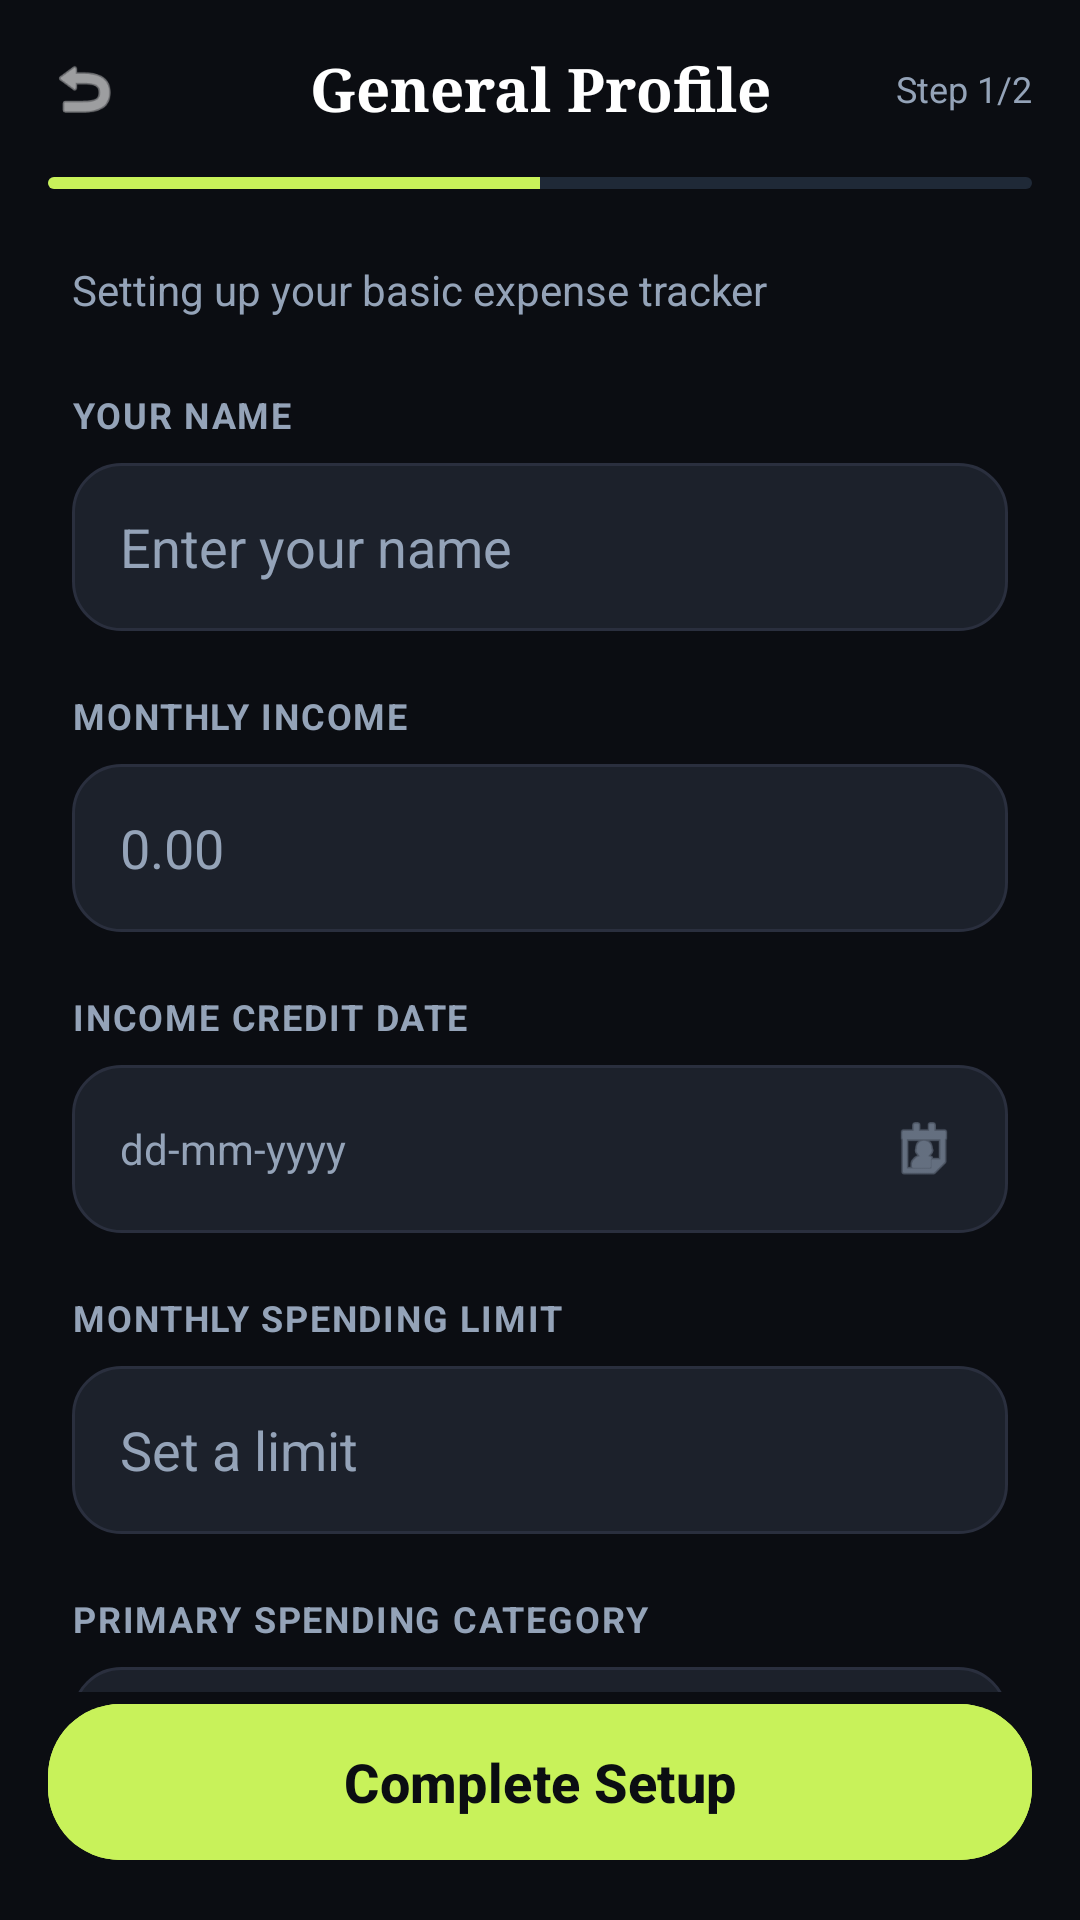

Named icons in this screenshot (1080*1920) and their centers, (x,y):
Back: (85,89)
Calendar: (924,1148)
